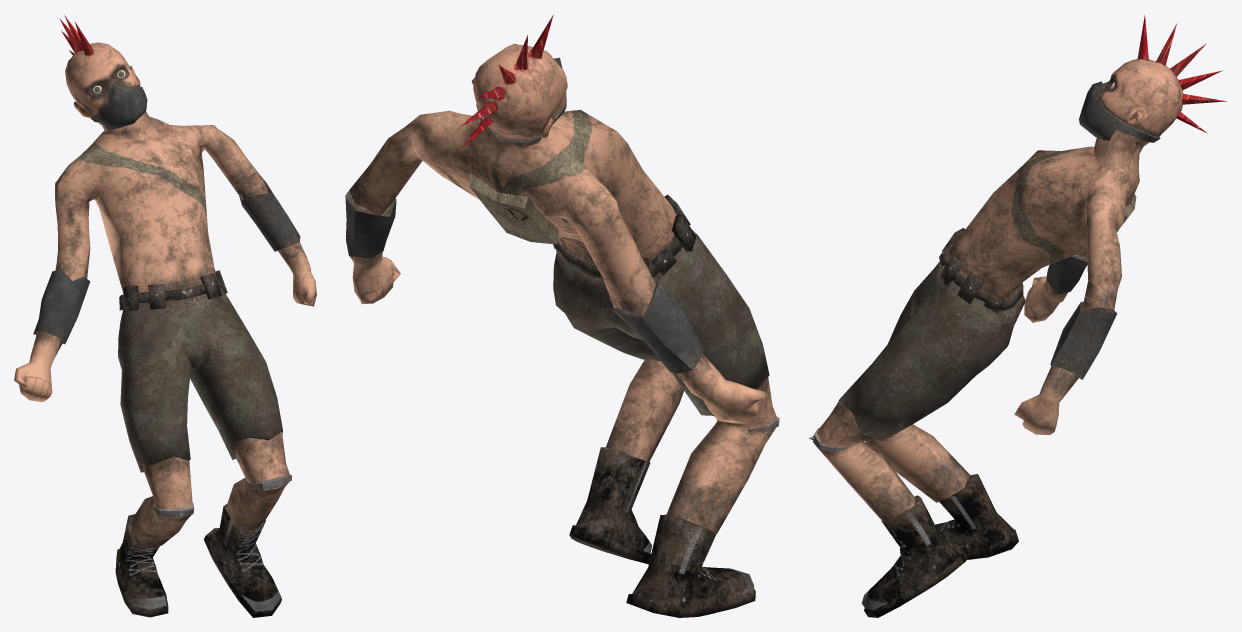
Rendered from Anim_morir_1_npc2.0024.obj.
3 views of the same model, side by side, from view 1: azimuth 30°, elevation 25°; view 2: azimuth 150°, elevation 25°; view 3: azimuth 270°, elevation 25° (orthographic). The views are drawn at different scales.
Parts seen in each view (by area): view 1: polySurface1; view 2: polySurface1; view 3: polySurface1.
Boxes of the visible parts, left/top/right/bottom form: polySurface1: left=14, top=14, right=316, bottom=617; polySurface1: left=345, top=15, right=779, bottom=617; polySurface1: left=809, top=15, right=1226, bottom=617.
Bounding box in the file's own units: 5.09 × 8.38 × 5.63.
